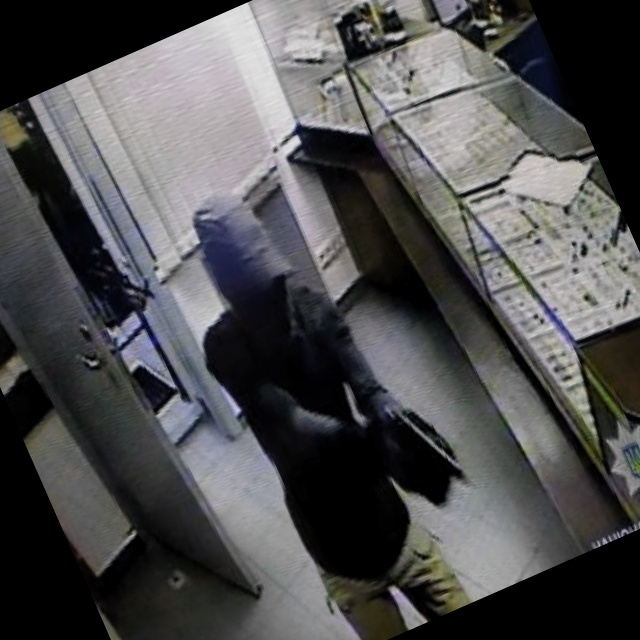gun: (380, 390, 476, 507)
